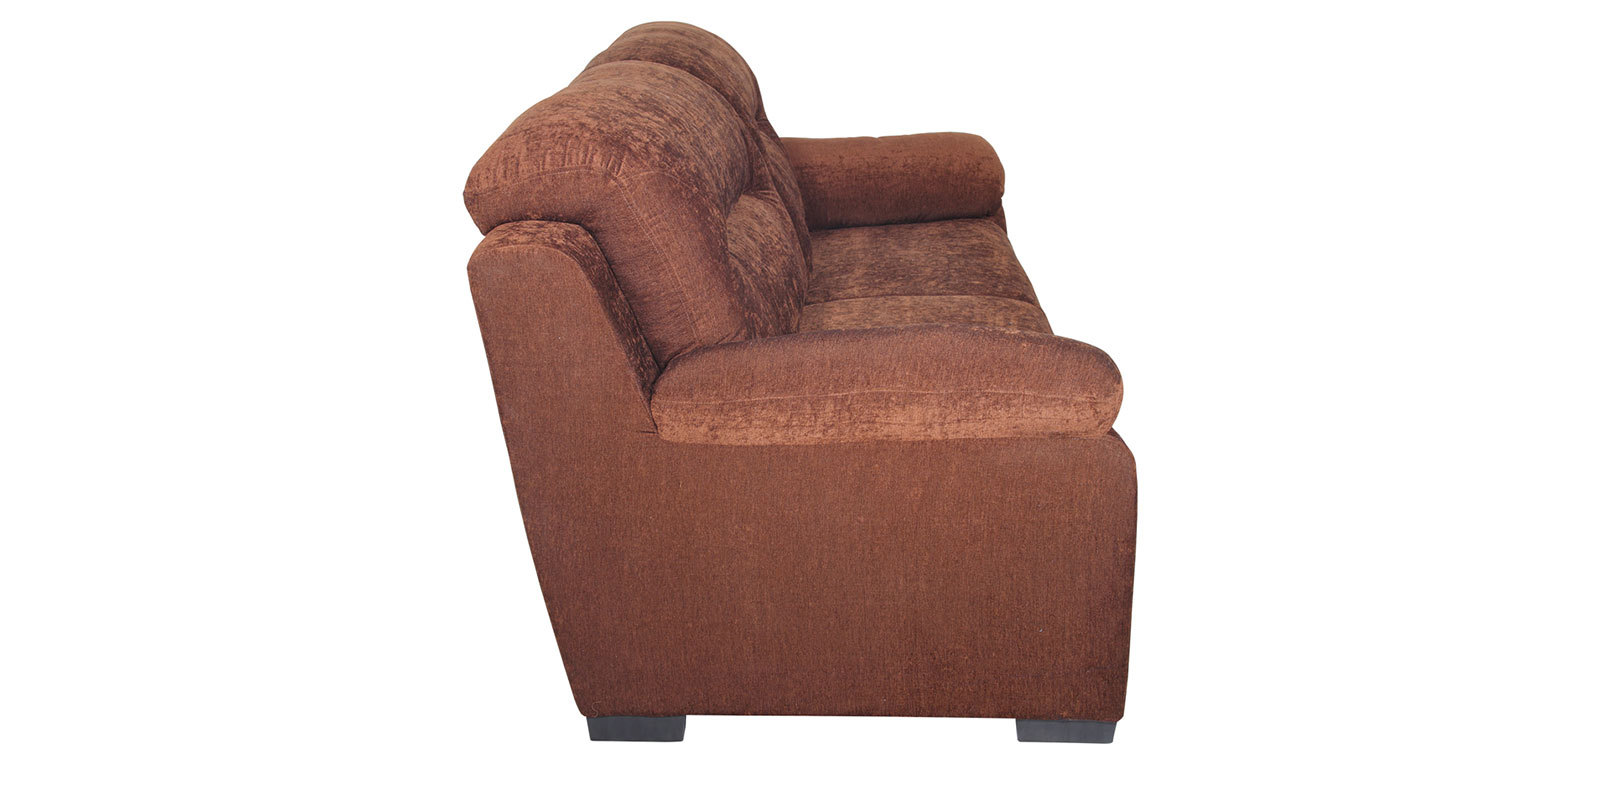Poland Three Seater Sofa in Chocolate Brown Colour by Furniture Mind: (461, 16, 1139, 741)
